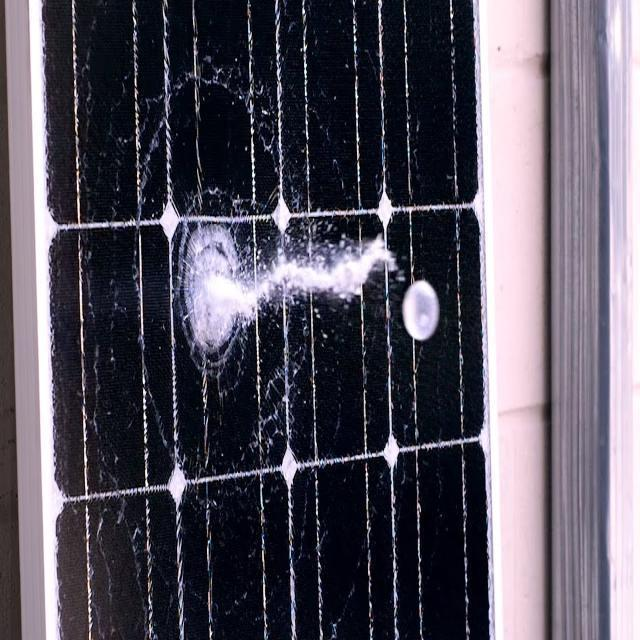Physical-damage: (137, 146, 418, 408)
